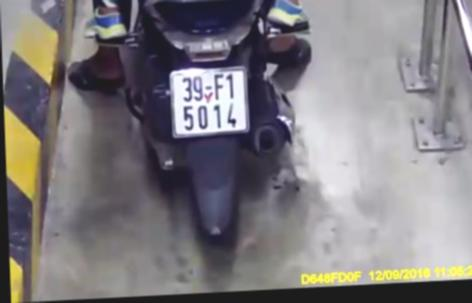License_Plate: (164, 62, 256, 146)
